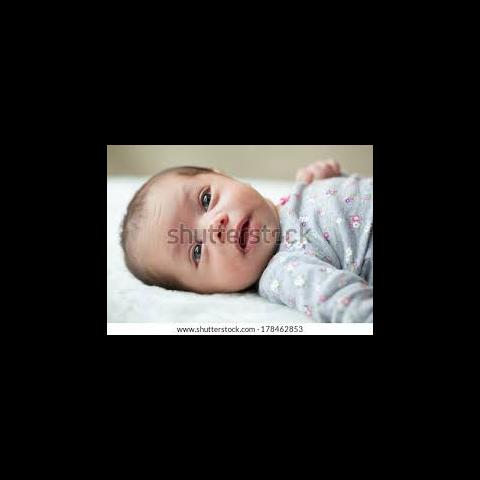opened: (186, 176, 216, 274)
